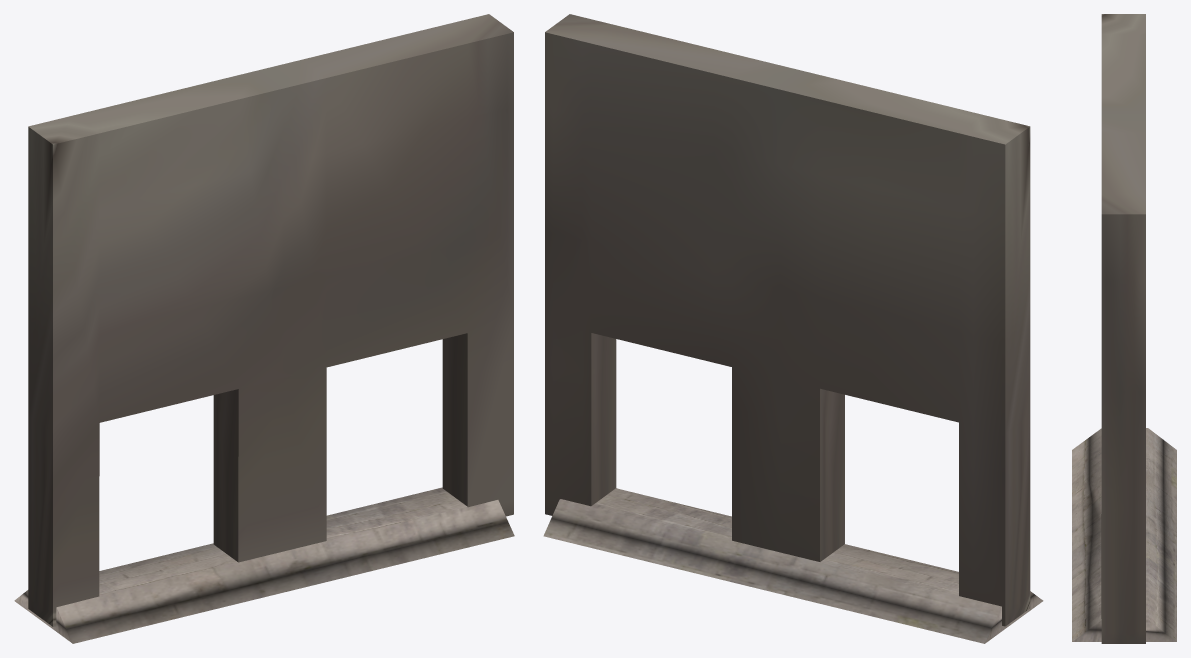
The model's file is stair_wall_double_bottom.glb.
The picture shows the model from 3 angles, left to right: view 1: azimuth 30°, elevation 25°; view 2: azimuth 150°, elevation 25°; view 3: azimuth 270°, elevation 25°; orthographic projection. The views are drawn at different scales.
Visible parts, largest first — view 1: stair_wall_double_bottom; view 2: stair_wall_double_bottom; view 3: stair_wall_double_bottom.
Boxes of the visible parts, bbox=[...] form: stair_wall_double_bottom: bbox=[14, 14, 514, 643]; stair_wall_double_bottom: bbox=[543, 14, 1043, 643]; stair_wall_double_bottom: bbox=[1072, 14, 1176, 643].
Size of the model in its own units: 8 by 8.09 by 1.77.
Materials: 2 (2 with a texture image).
